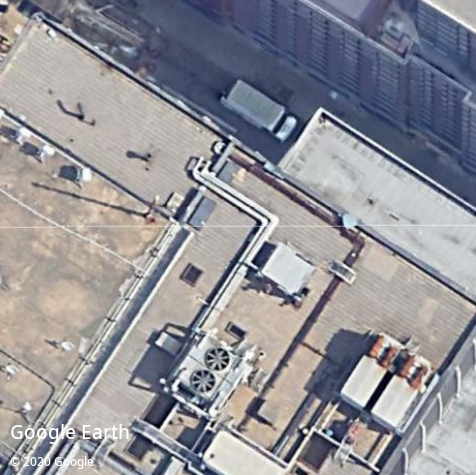Vent: (204, 347, 229, 371), (190, 369, 215, 392)
